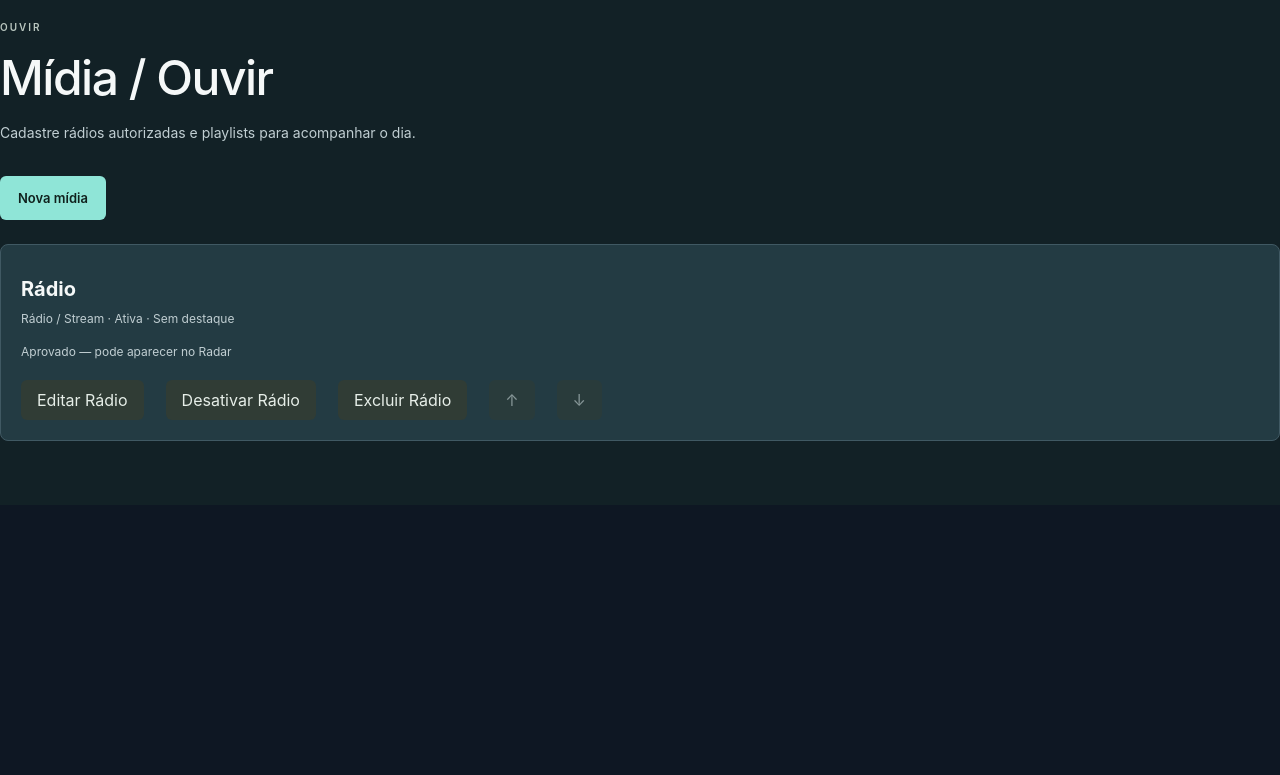
Scenario: preview rádio e edição preservam ID e ordem
Expected: the button "Nova mídia" is enabled, [0,176,106,220]
Click the button "Editar Rádio".
click(82, 400)  # box [21,380,144,420]
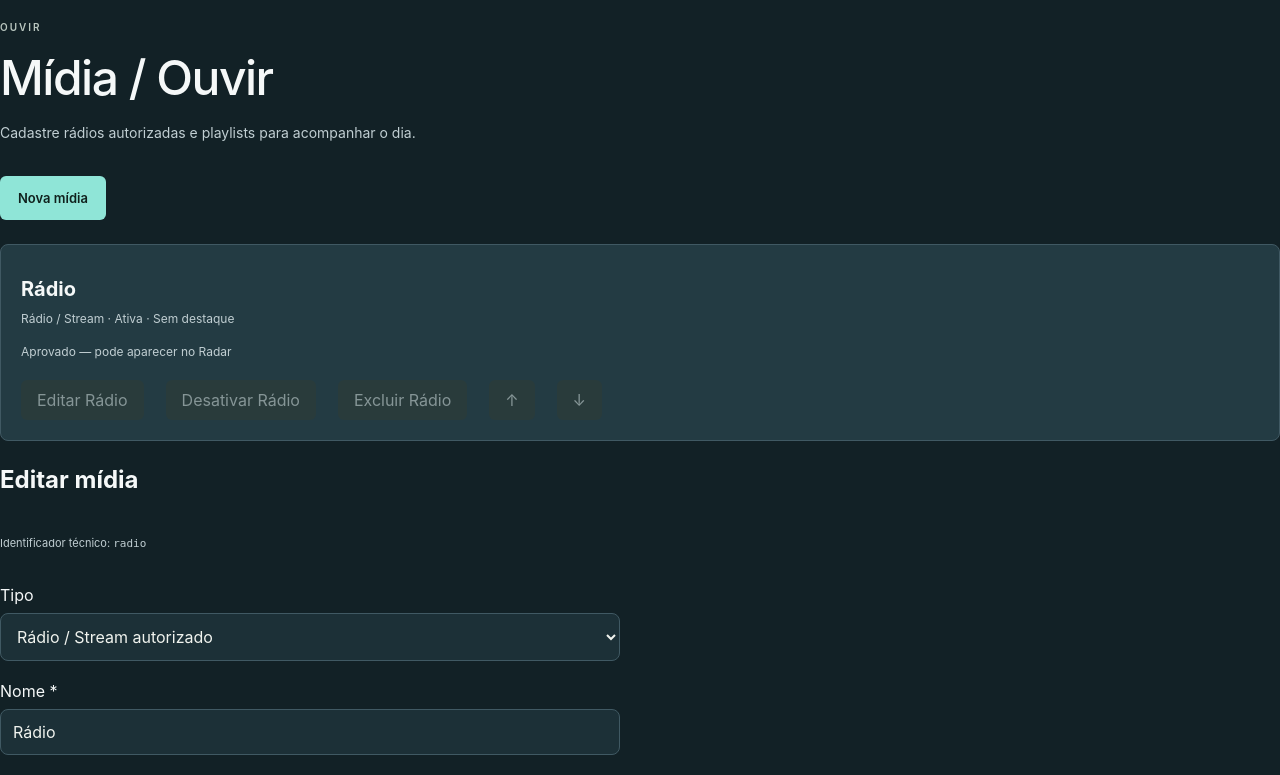
Expected: the text "radio" is shown, [113,537,146,550]
Replace the text in the field labelled "Nome *" with "Novo nome" at (310, 732), box [0,709,620,755]
(page scrolled)
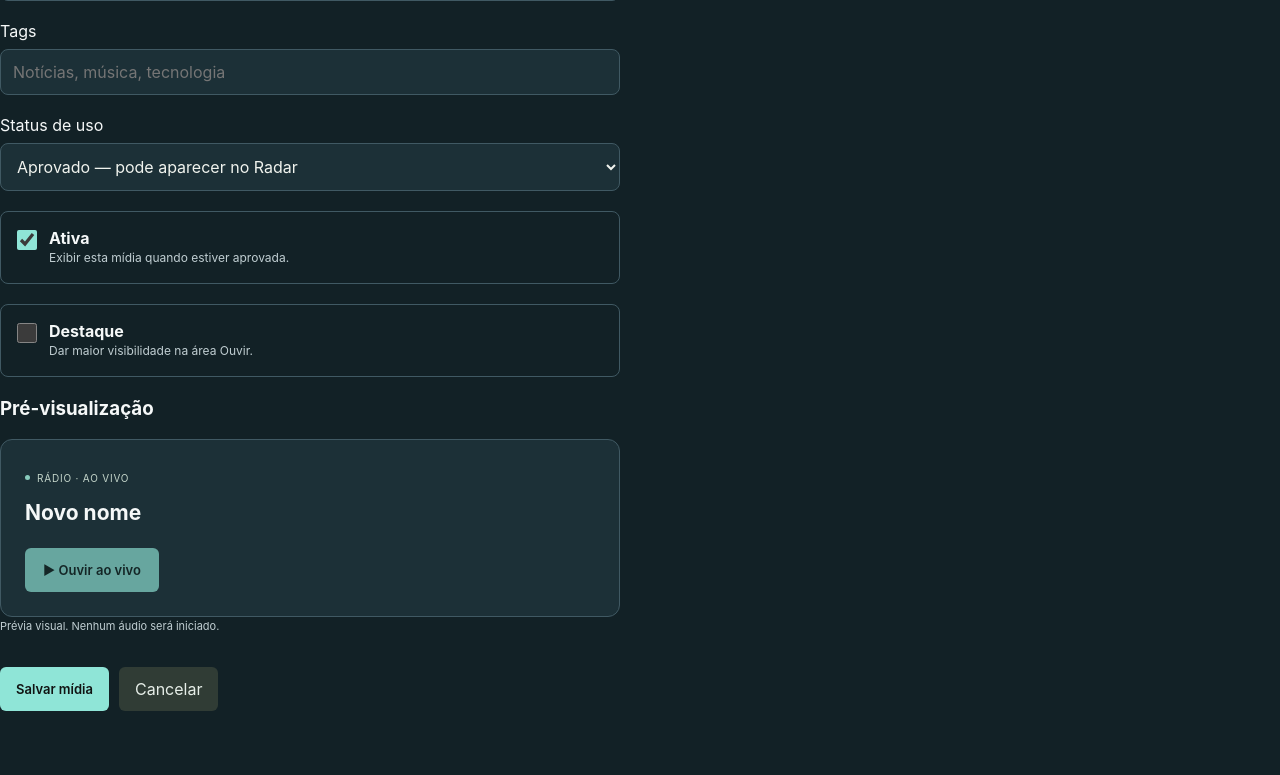
Click the button "Salvar mídia".
click(54, 689)  # box [0,667,109,711]
(page scrolled)
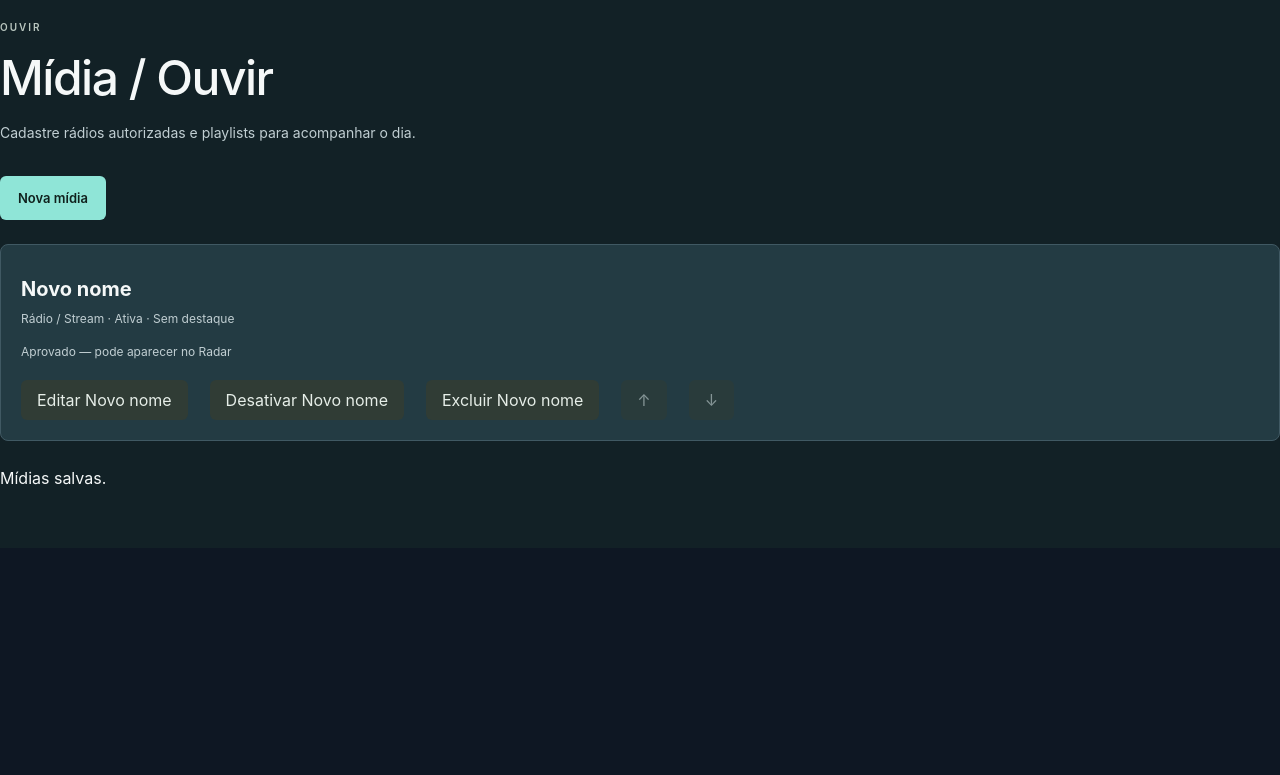
Expected: the text "Mídias salvas." is shown, [0,468,106,488]
